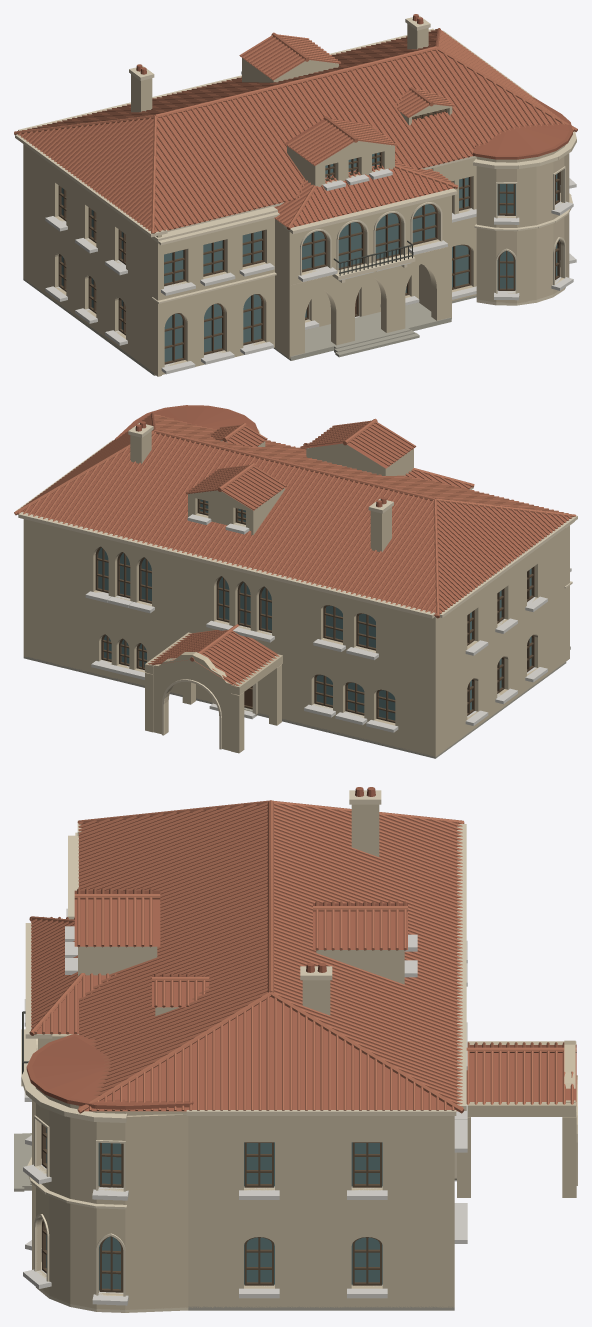
File: changning-sun-ke-villa-raw.glb
3 views of the same model, one above another, from view 1: azimuth 30°, elevation 25°; view 2: azimuth 150°, elevation 25°; view 3: azimuth 270°, elevation 25° (orthographic). The views are drawn at different scales.
Visible parts, largest first — view 1: 孙科别墅主楼（南花园敞廊与北门廊）; view 2: 孙科别墅主楼（南花园敞廊与北门廊）; view 3: 孙科别墅主楼（南花园敞廊与北门廊）.
Part boxes in pixels (<box>): 孙科别墅主楼（南花园敞廊与北门廊）: <box>14,14,577,376</box>; 孙科别墅主楼（南花园敞廊与北门廊）: <box>14,405,577,758</box>; 孙科别墅主楼（南花园敞廊与北门廊）: <box>14,787,577,1312</box>.
Bounding box in the file's own units: 21.31 × 10.19 × 17.25.
